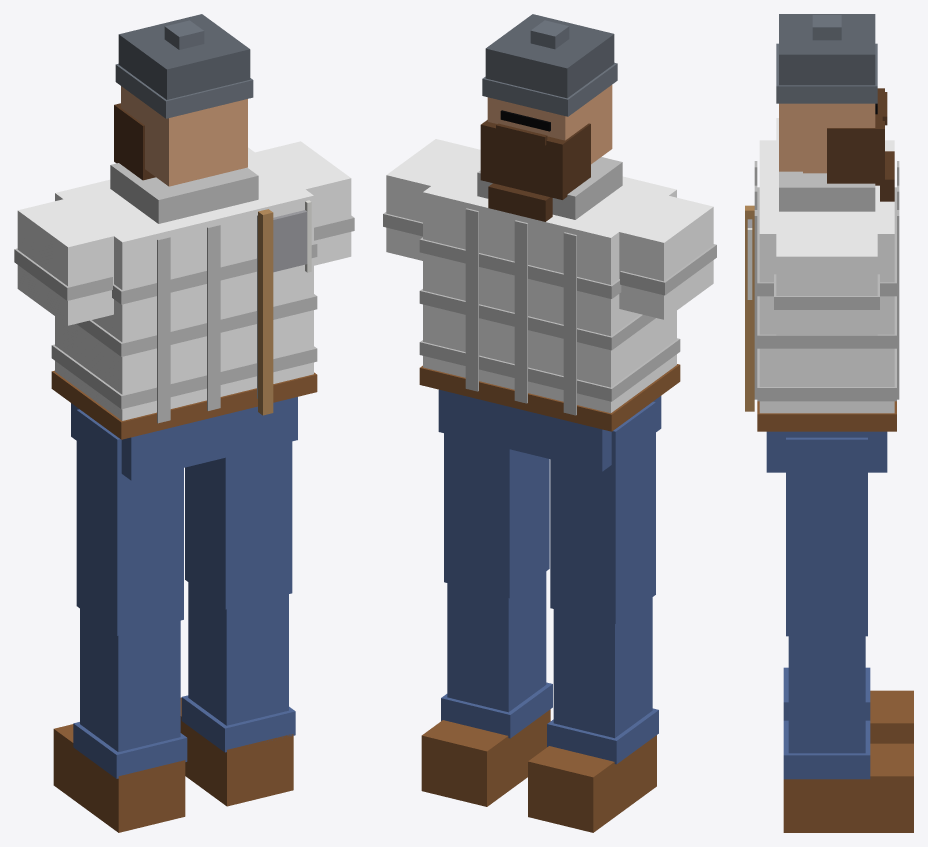
Rendered from LUMBERJACK.gltf.
The picture shows the model from 3 angles, left to right: view 1: azimuth 30°, elevation 25°; view 2: azimuth 150°, elevation 25°; view 3: azimuth 270°, elevation 25°; orthographic projection. The views are drawn at different scales.
Parts seen in each view (by area): view 1: LUMBERJACK; view 2: LUMBERJACK; view 3: LUMBERJACK.
Boxes of the visible parts, x1,y1,x2,y2 form: LUMBERJACK: (14,14,354,832); LUMBERJACK: (383,14,716,832); LUMBERJACK: (745,14,913,832).
Bounding box in the file's own units: 0.69 × 1.76 × 0.35.
